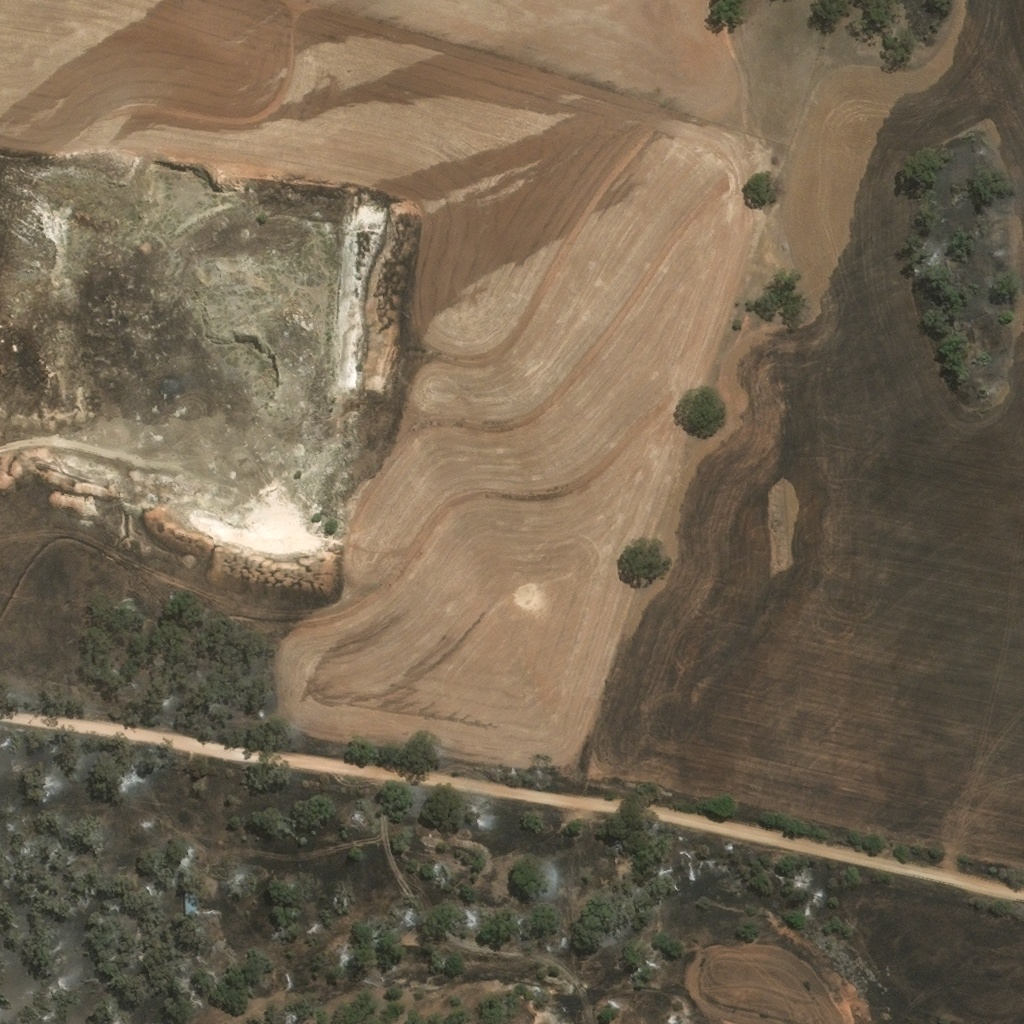0 no-damage: (181, 876, 195, 914)
